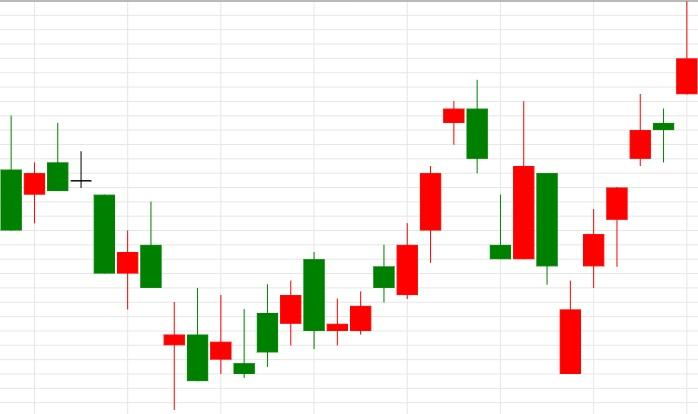bearish_engulfing_fall: (233, 80, 489, 378), (234, 252, 325, 378)
inverse_hammer_rise: (443, 80, 512, 260)
three_white_soldiers_rise: (513, 101, 628, 375)
